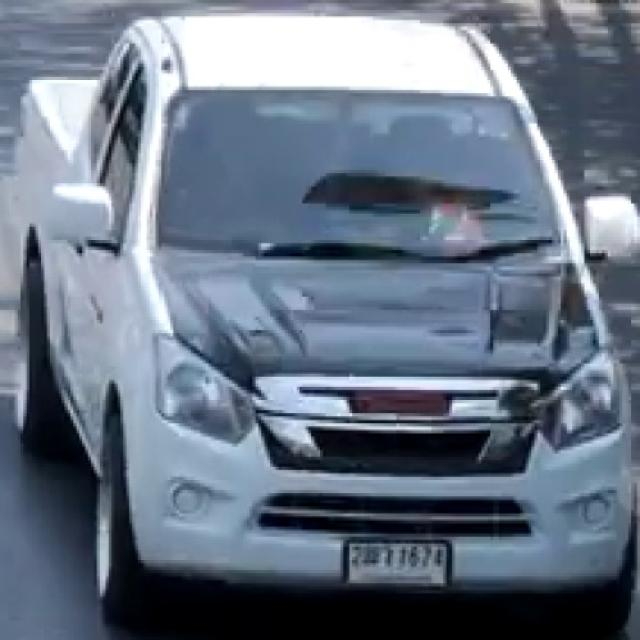plate: (345, 535, 453, 590)
